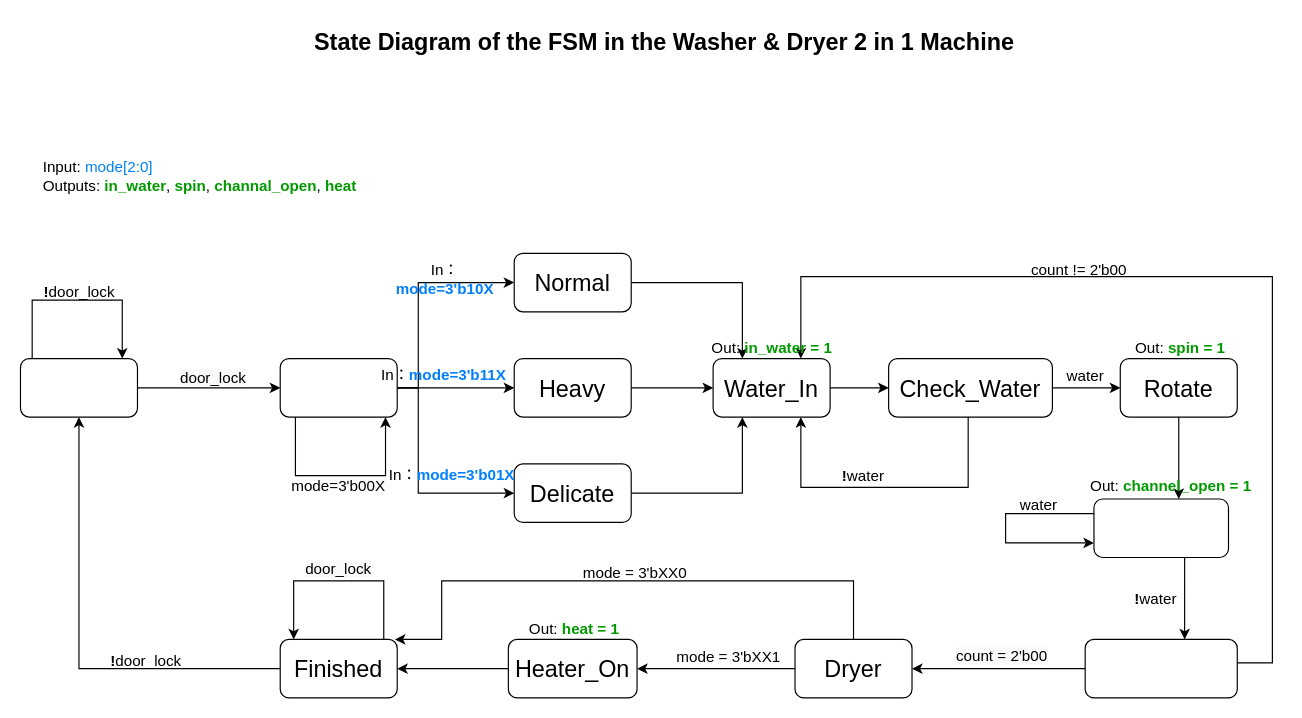
Image size: 1302x718. Some labels were removed from this diagram. Here are the shapes that lost their labels. From the top down, the centre of each, then its label:
At pixel 78 387: "idle".
At pixel 338 387: "start".
At pixel 1160 528: "Water_Out".
At pixel 1160 668: "Wait_for_dry".
